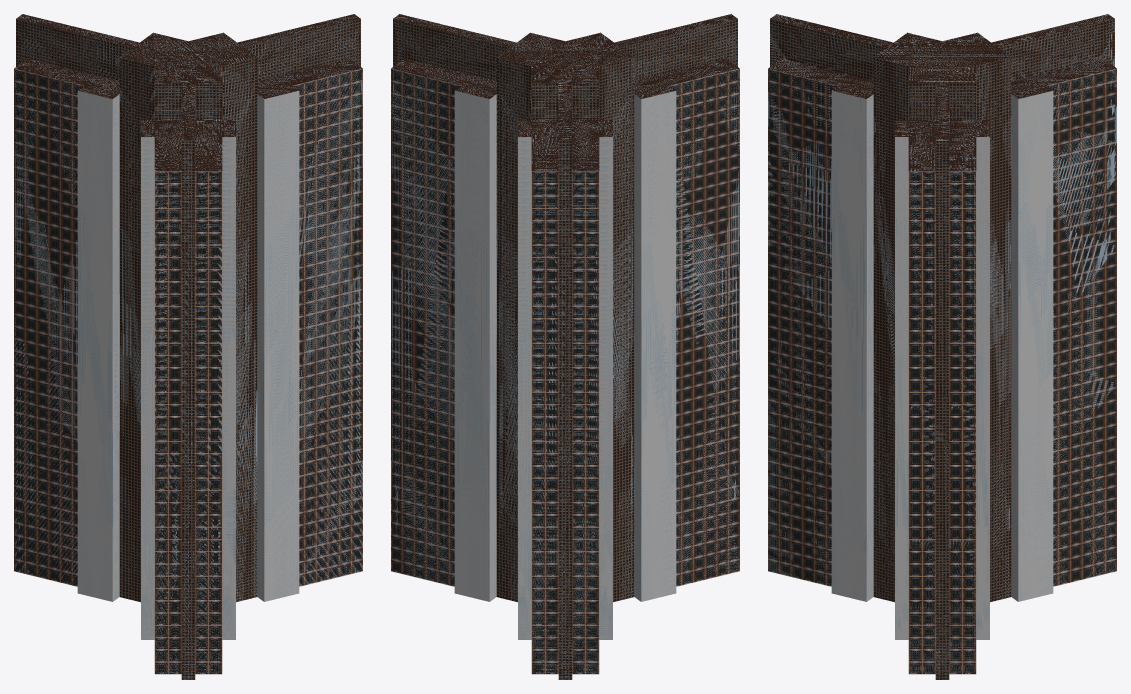
3 views of the same model, side by side, from view 1: azimuth 30°, elevation 25°; view 2: azimuth 150°, elevation 25°; view 3: azimuth 270°, elevation 25° (orthographic).
Visible parts, largest first — view 1: SketchUp (×14); view 2: SketchUp (×14); view 3: SketchUp (×14).
Part boxes in pixels (x1=…): SketchUp (×14): x1=14, y1=14, x2=362, y2=679; SketchUp (×14): x1=391, y1=14, x2=739, y2=679; SketchUp (×14): x1=768, y1=14, x2=1116, y2=679.
Size of the model in its own units: 3215 by 3553 by 6063.
